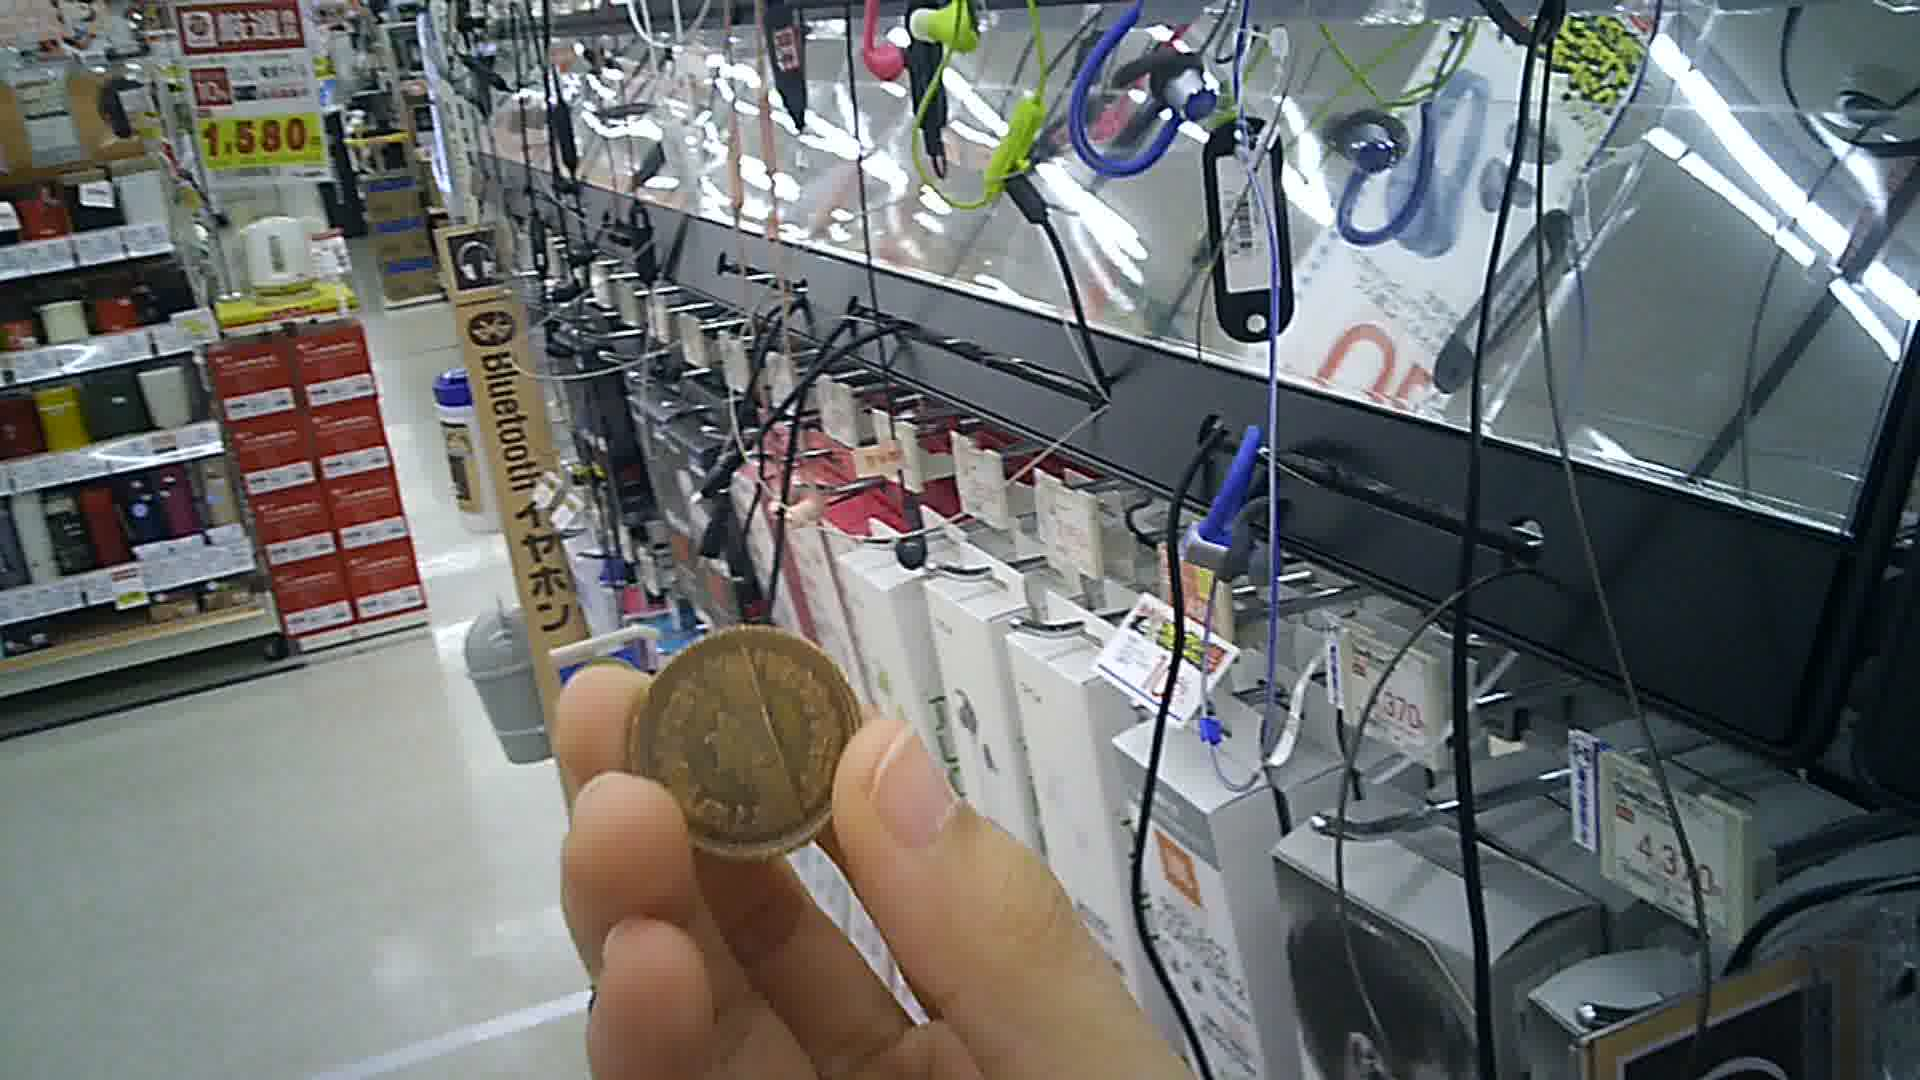10 Yen: (613, 618, 862, 855)
